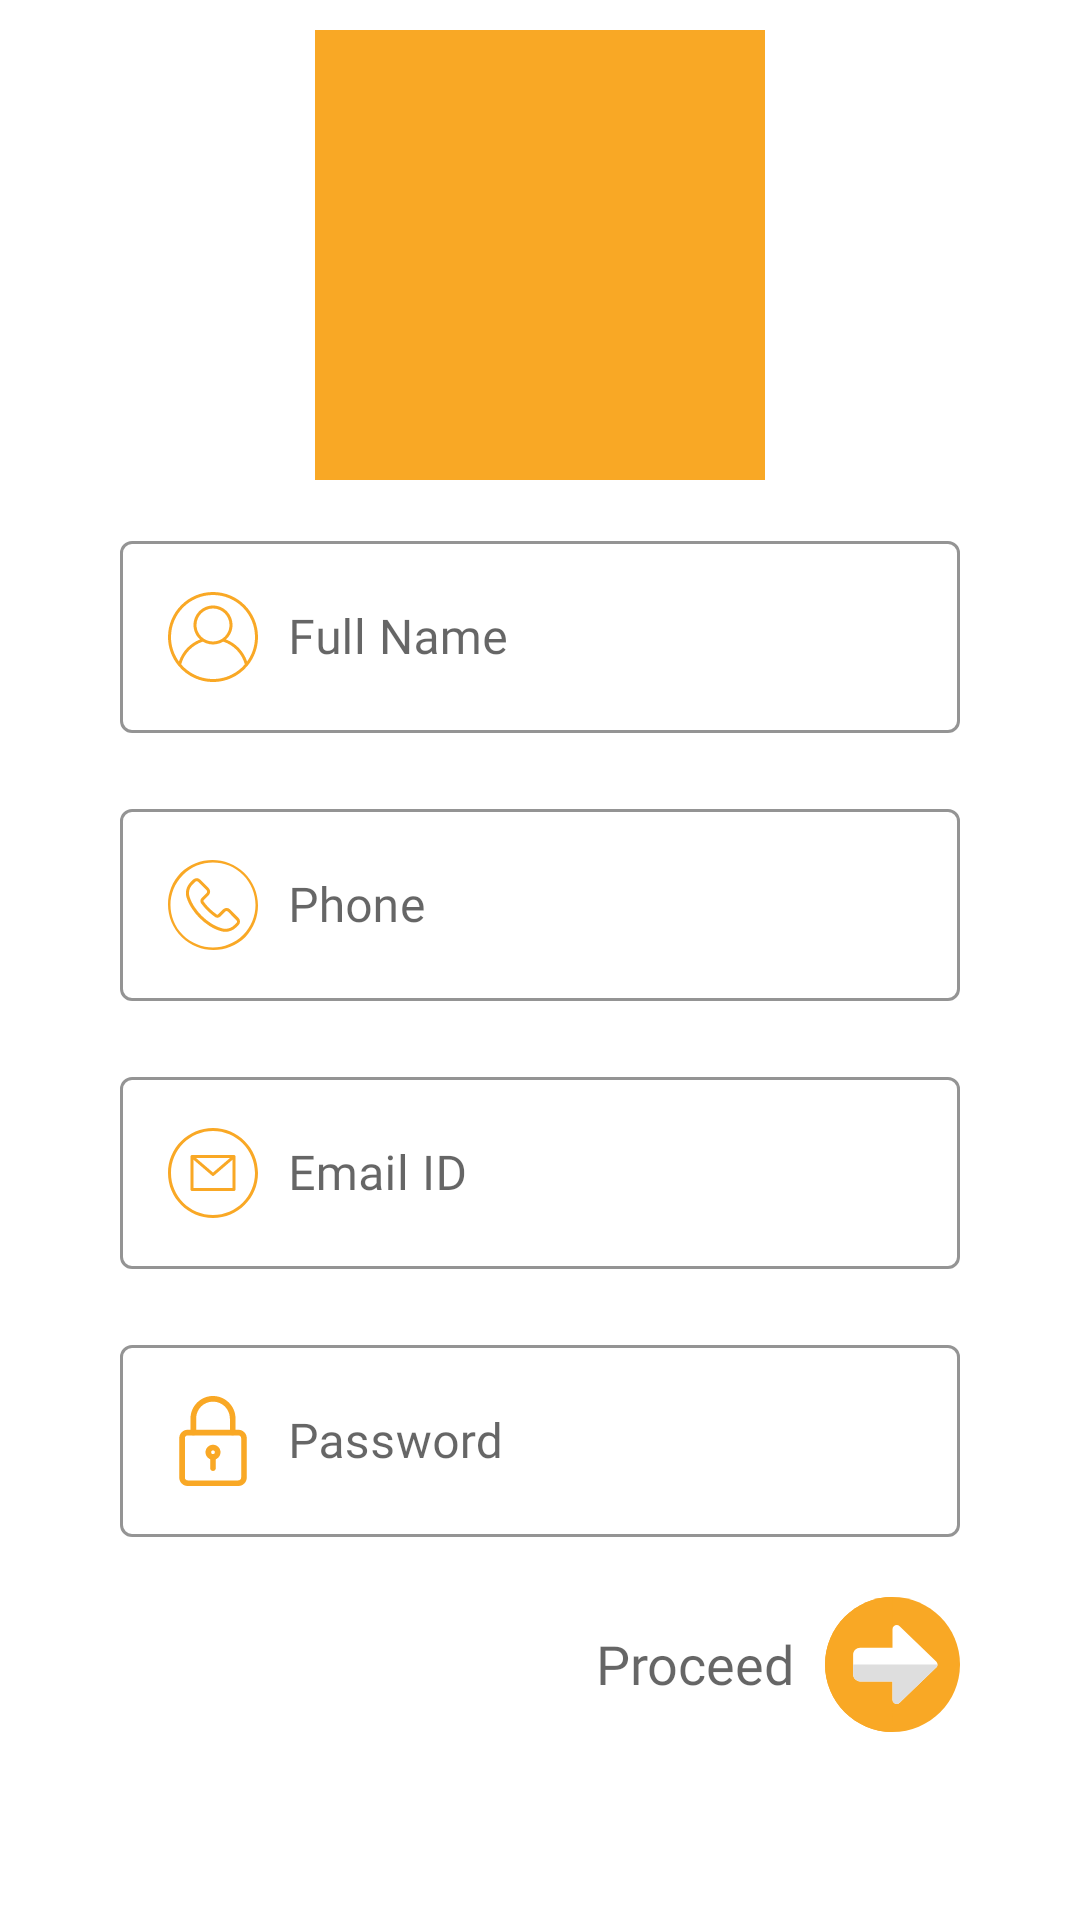

Icon bounding boxes for this 1080x1920 phone screenshot, format (x1, y1, x2, y2):
login: (825, 1597, 960, 1732)
